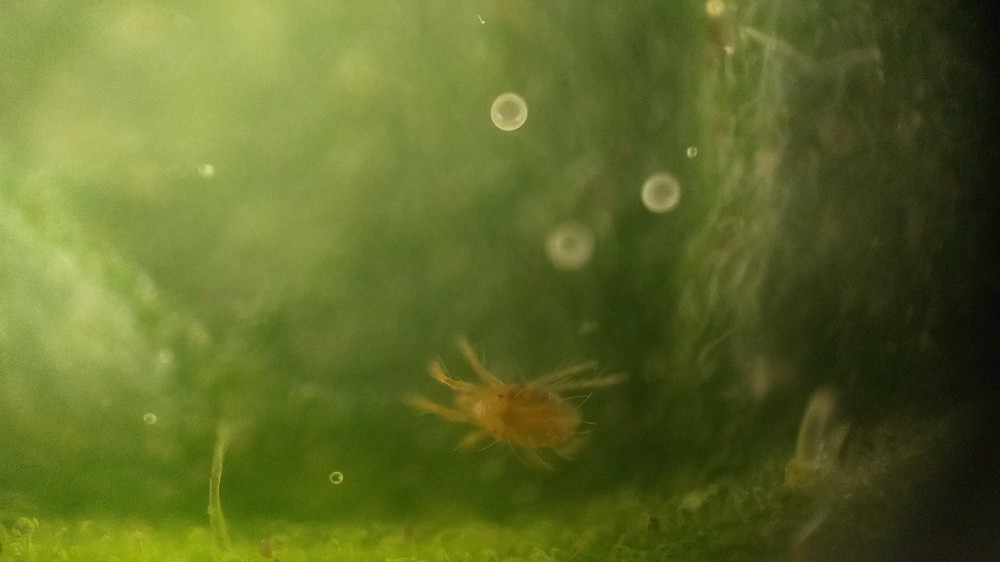Aracnido Rojo: (390, 325, 642, 492)
